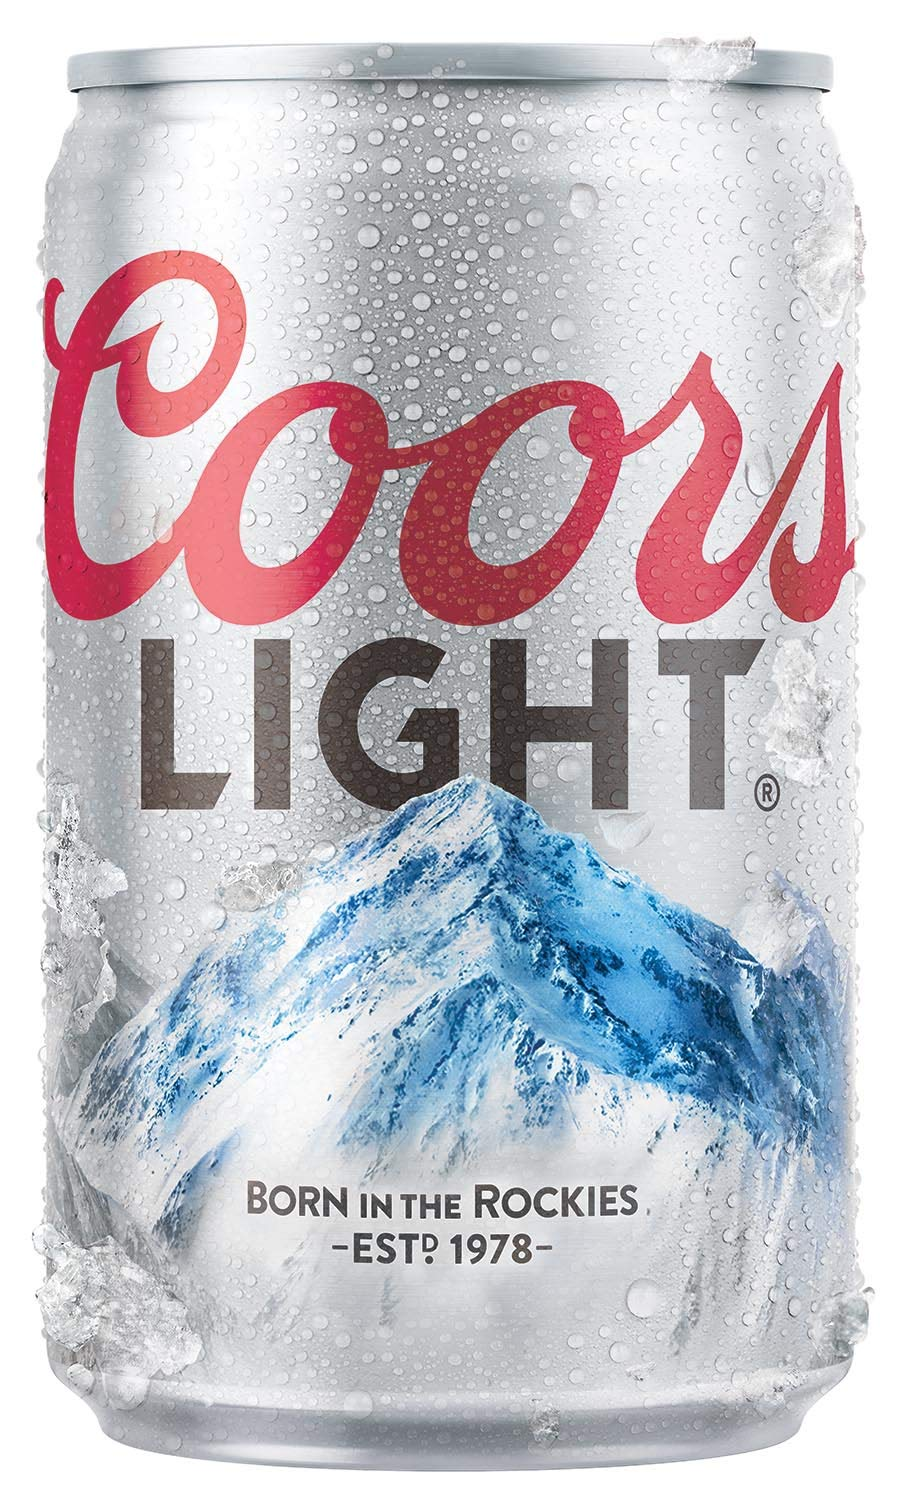beer can: (29, 47, 870, 1466)
